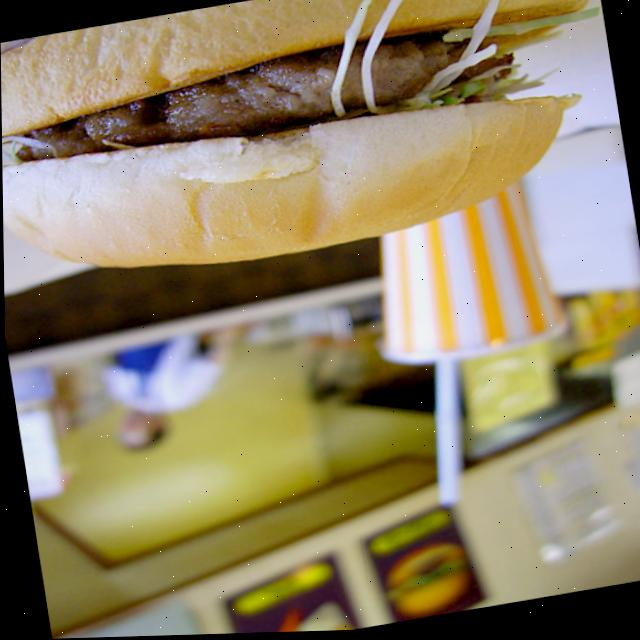汉堡快餐: (0, 0, 633, 310)
